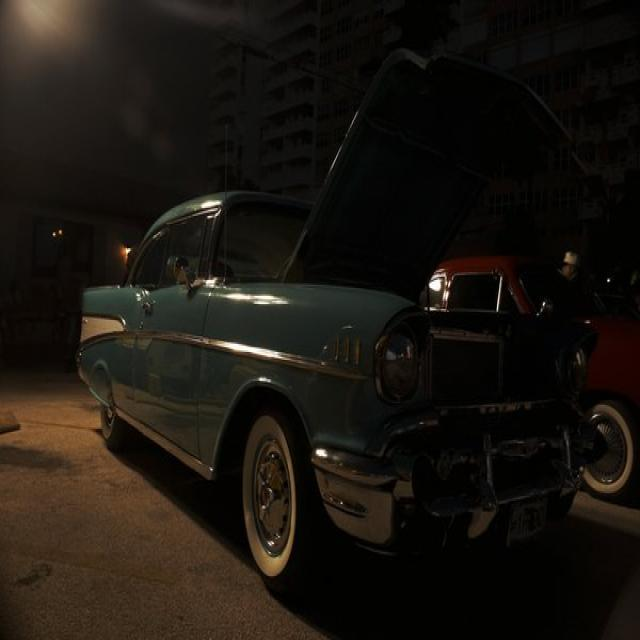Car: (53, 192, 559, 578), (401, 253, 640, 475)
